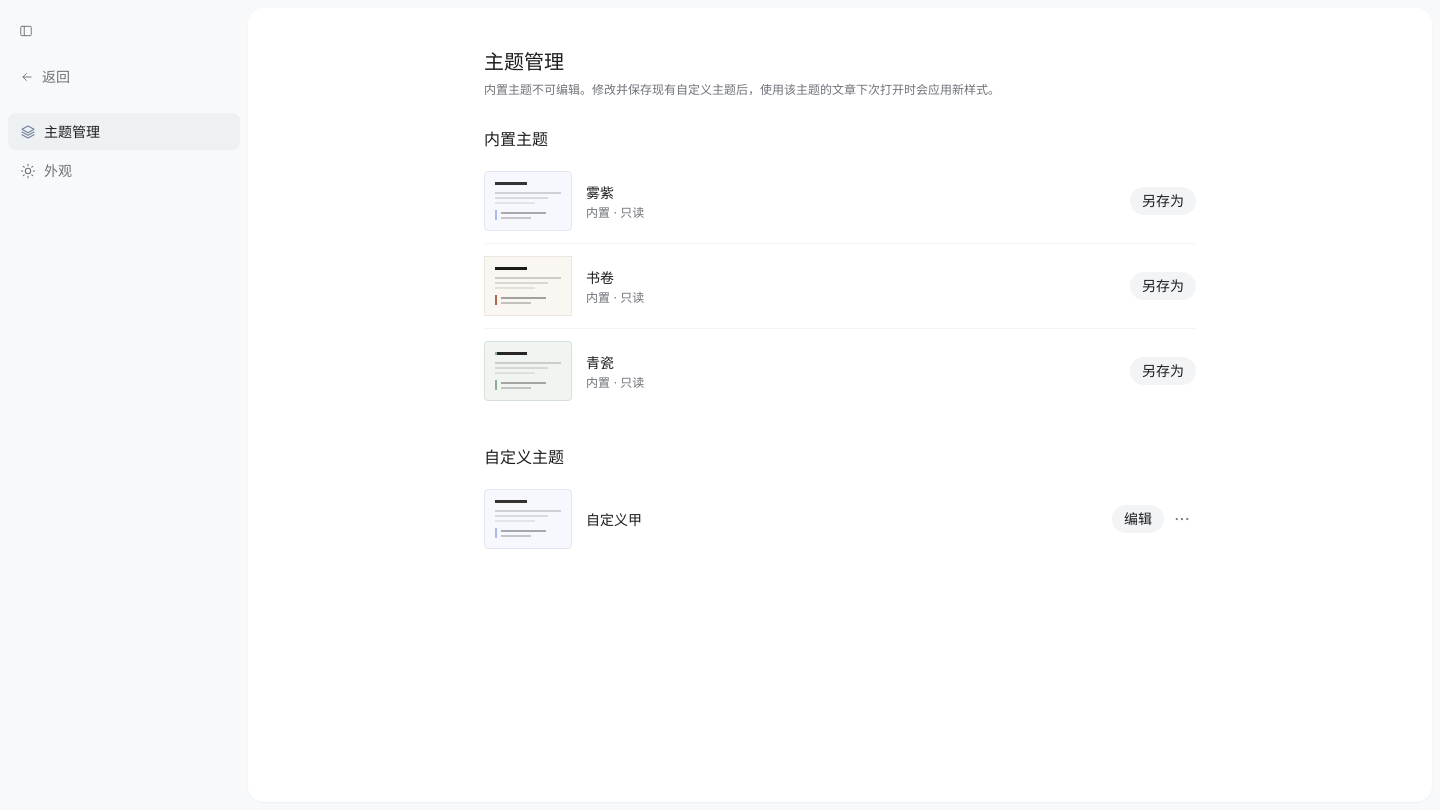
主题列表 › 删除需要确认，确认后调用删除并刷新列表
The image size is (1440, 810).
Later steps or results of the test are not shown.
Check: the text "自定义甲" is shown, box x1=586 y1=511 x2=642 y2=528
Click the button named "更多操作": (1182, 519) x1=1168 y1=505 x2=1196 y2=533
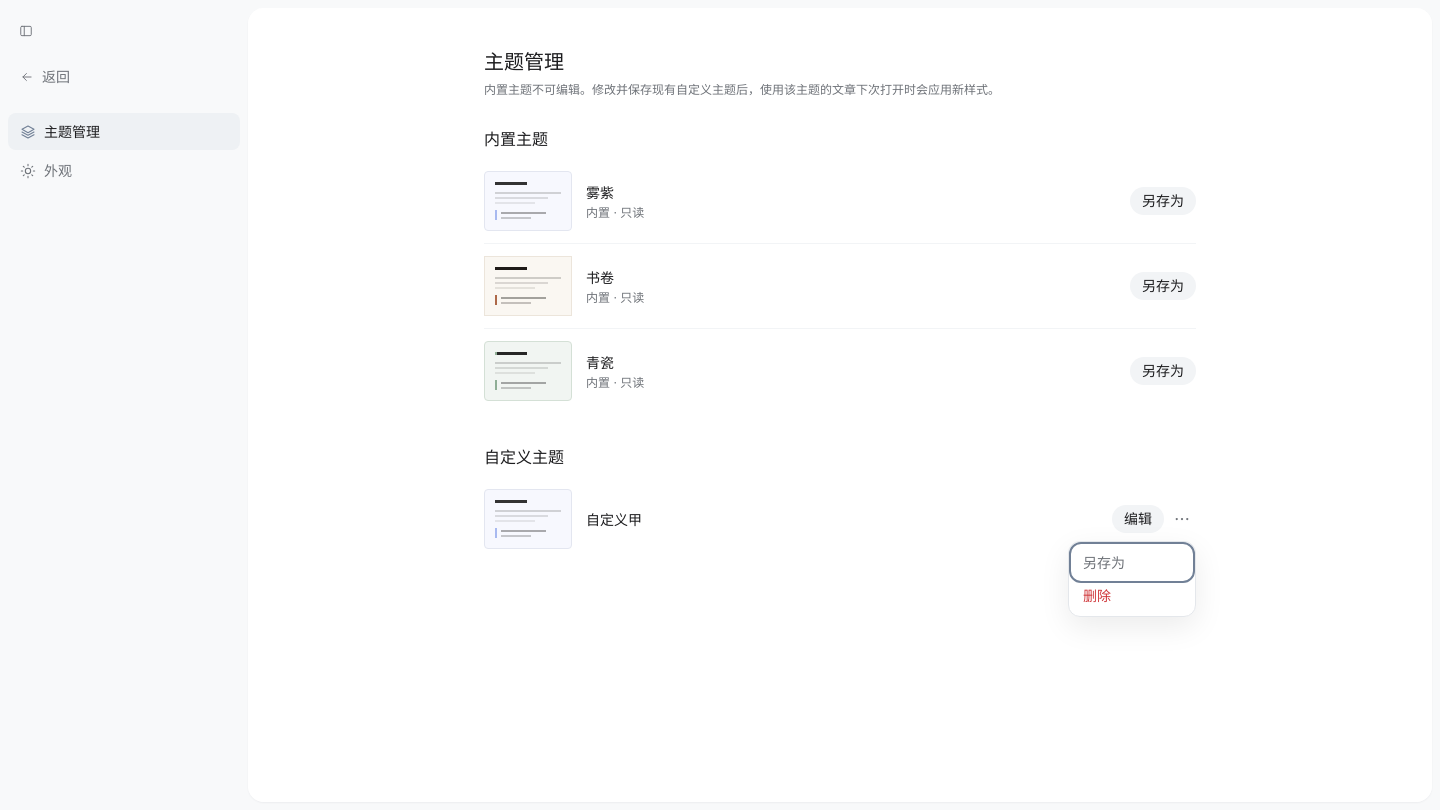
Click the menu item "删除": (1132, 596) x1=1073 y1=579 x2=1191 y2=612
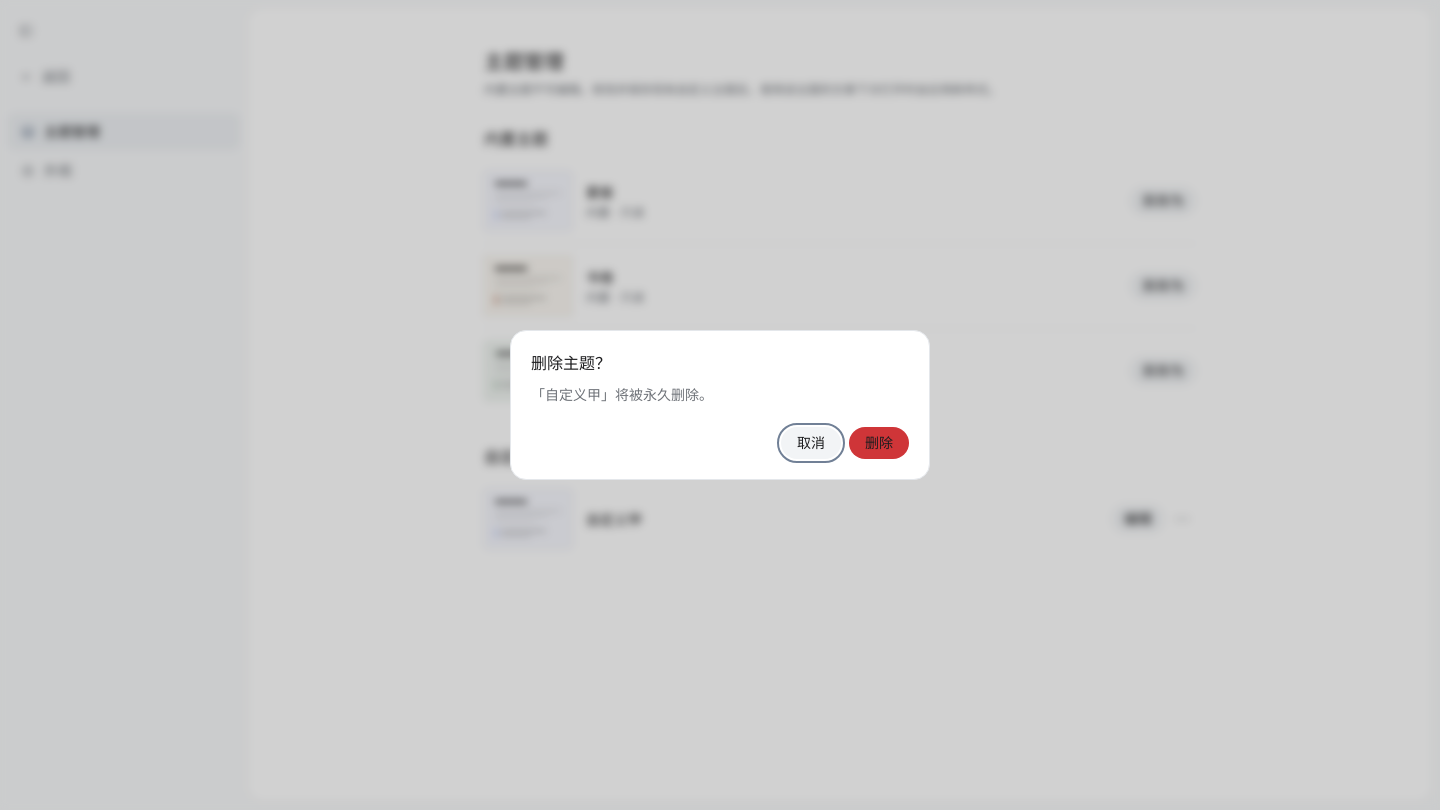
Check: the text "「自定义甲」将被永久删除。" is shown, box x1=531 y1=386 x2=713 y2=403
